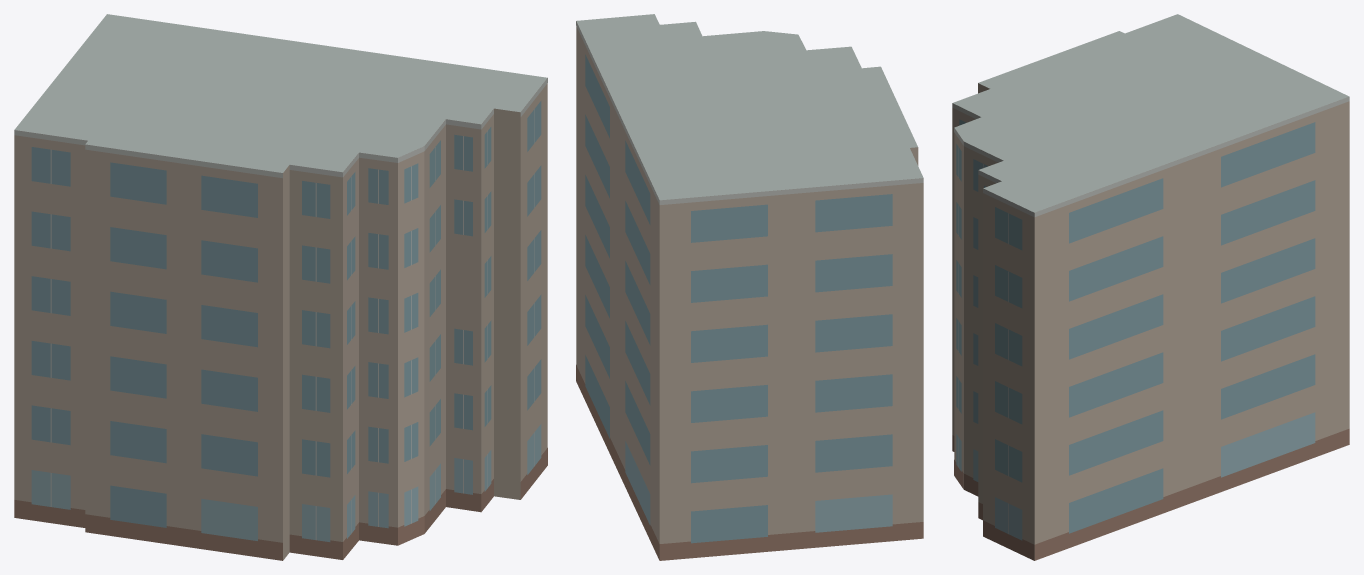
File: survey-upis-33041583.glb
The picture shows the model from 3 angles, left to right: view 1: azimuth 30°, elevation 25°; view 2: azimuth 150°, elevation 25°; view 3: azimuth 270°, elevation 25°; orthographic projection. The views are drawn at different scales.
Parts seen in each view (by area): view 1: survey-upis-33041583.tmp; view 2: survey-upis-33041583.tmp; view 3: survey-upis-33041583.tmp.
Boxes of the visible parts, bbox=[...] form: survey-upis-33041583.tmp: bbox=[14, 14, 547, 560]; survey-upis-33041583.tmp: bbox=[576, 14, 923, 560]; survey-upis-33041583.tmp: bbox=[952, 14, 1349, 560].
Bounding box in the file's own units: 22.41 × 18.3 × 18.92.
